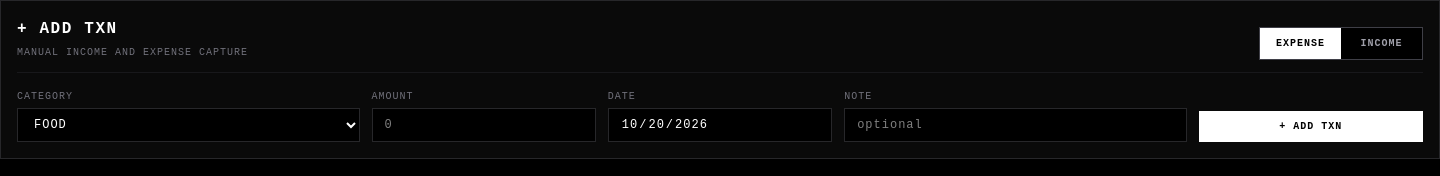
Test: AddTransactionPanel › blocks an invalid amount
The width and height of the screenshot is (1440, 176).
Type "-1" into the number field labelled "Amount" at (484, 125), box [372,108,596,142]
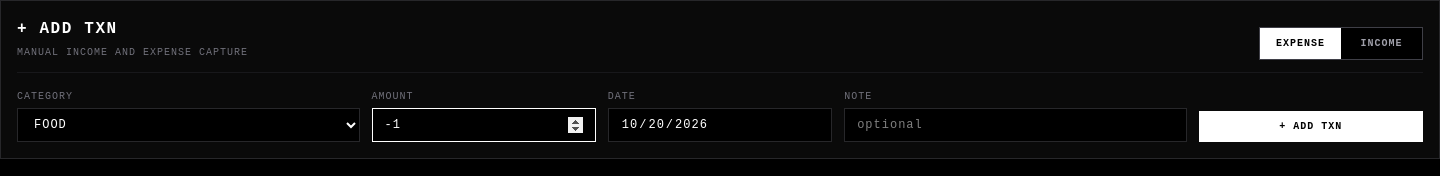
Click the button "+ Add Txn" at (1311, 126), box [1199,111,1423,142]
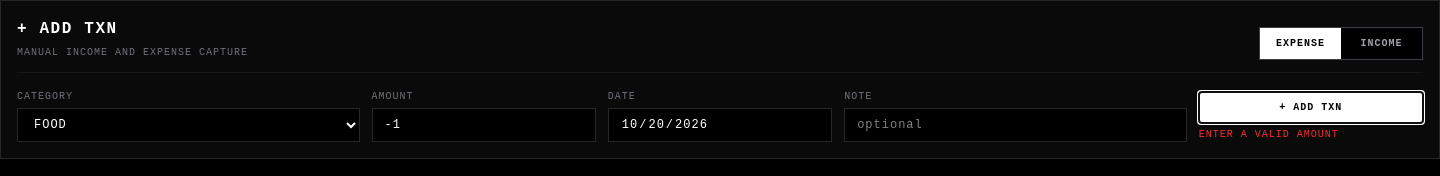
Now the text "Enter a valid amount" is shown, box [1199,129,1339,140]
